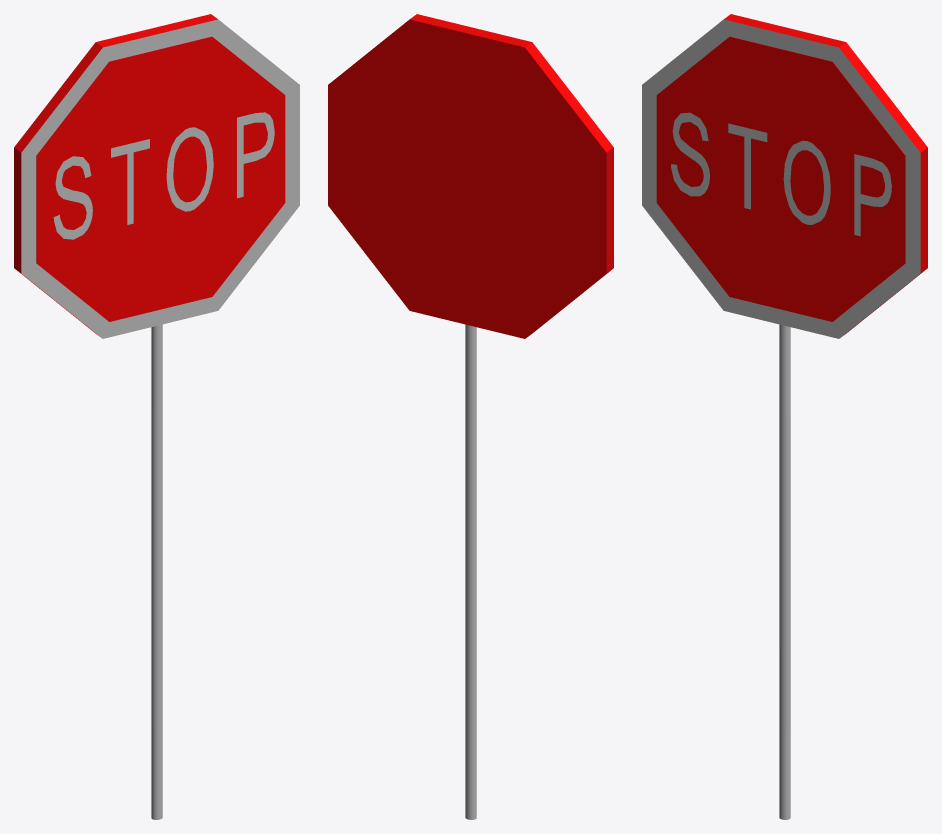
Rendered from stop_sign.obj.
3 renders of one model, left to right at view 1: azimuth 30°, elevation 25°; view 2: azimuth 150°, elevation 25°; view 3: azimuth 330°, elevation 25°, orthographic.
Parts seen in each view (by area): view 1: pPrism2, pPrism1, pCylinder1, Trim_Text_STOP_1_1 Trim_Char_O_1_1, Trim_Char_S_1_1 Trim_Text_STOP_1_1, Trim_Text_STOP_1_1 Trim_Char_P_1_1, Trim_Text_STOP_1_1 Trim_Char_T_1_1; view 2: pPrism1, pCylinder1; view 3: pPrism2, pPrism1, pCylinder1, Trim_Text_STOP_1_1 Trim_Char_O_1_1, Trim_Char_S_1_1 Trim_Text_STOP_1_1, Trim_Text_STOP_1_1 Trim_Char_P_1_1, Trim_Text_STOP_1_1 Trim_Char_T_1_1.
Part boxes in pixels (x1,y1,x2,y2): pPrism2: (36, 36, 285, 321); pPrism1: (14, 14, 299, 338); pCylinder1: (151, 324, 162, 819); Trim_Text_STOP_1_1 Trim_Char_O_1_1: (166, 127, 213, 211); Trim_Char_S_1_1 Trim_Text_STOP_1_1: (53, 156, 92, 239); Trim_Text_STOP_1_1 Trim_Char_P_1_1: (237, 112, 274, 198); Trim_Text_STOP_1_1 Trim_Char_T_1_1: (111, 139, 149, 224); pPrism1: (328, 14, 613, 338); pCylinder1: (465, 324, 476, 819); pPrism2: (656, 36, 905, 321); pPrism1: (642, 14, 927, 338); pCylinder1: (779, 324, 790, 819); Trim_Text_STOP_1_1 Trim_Char_O_1_1: (783, 140, 830, 224); Trim_Char_S_1_1 Trim_Text_STOP_1_1: (671, 112, 709, 196); Trim_Text_STOP_1_1 Trim_Char_P_1_1: (854, 154, 891, 236); Trim_Text_STOP_1_1 Trim_Char_T_1_1: (728, 123, 767, 209).
Bounding box in the file's own units: 2.19 × 5.91 × 0.1238.
